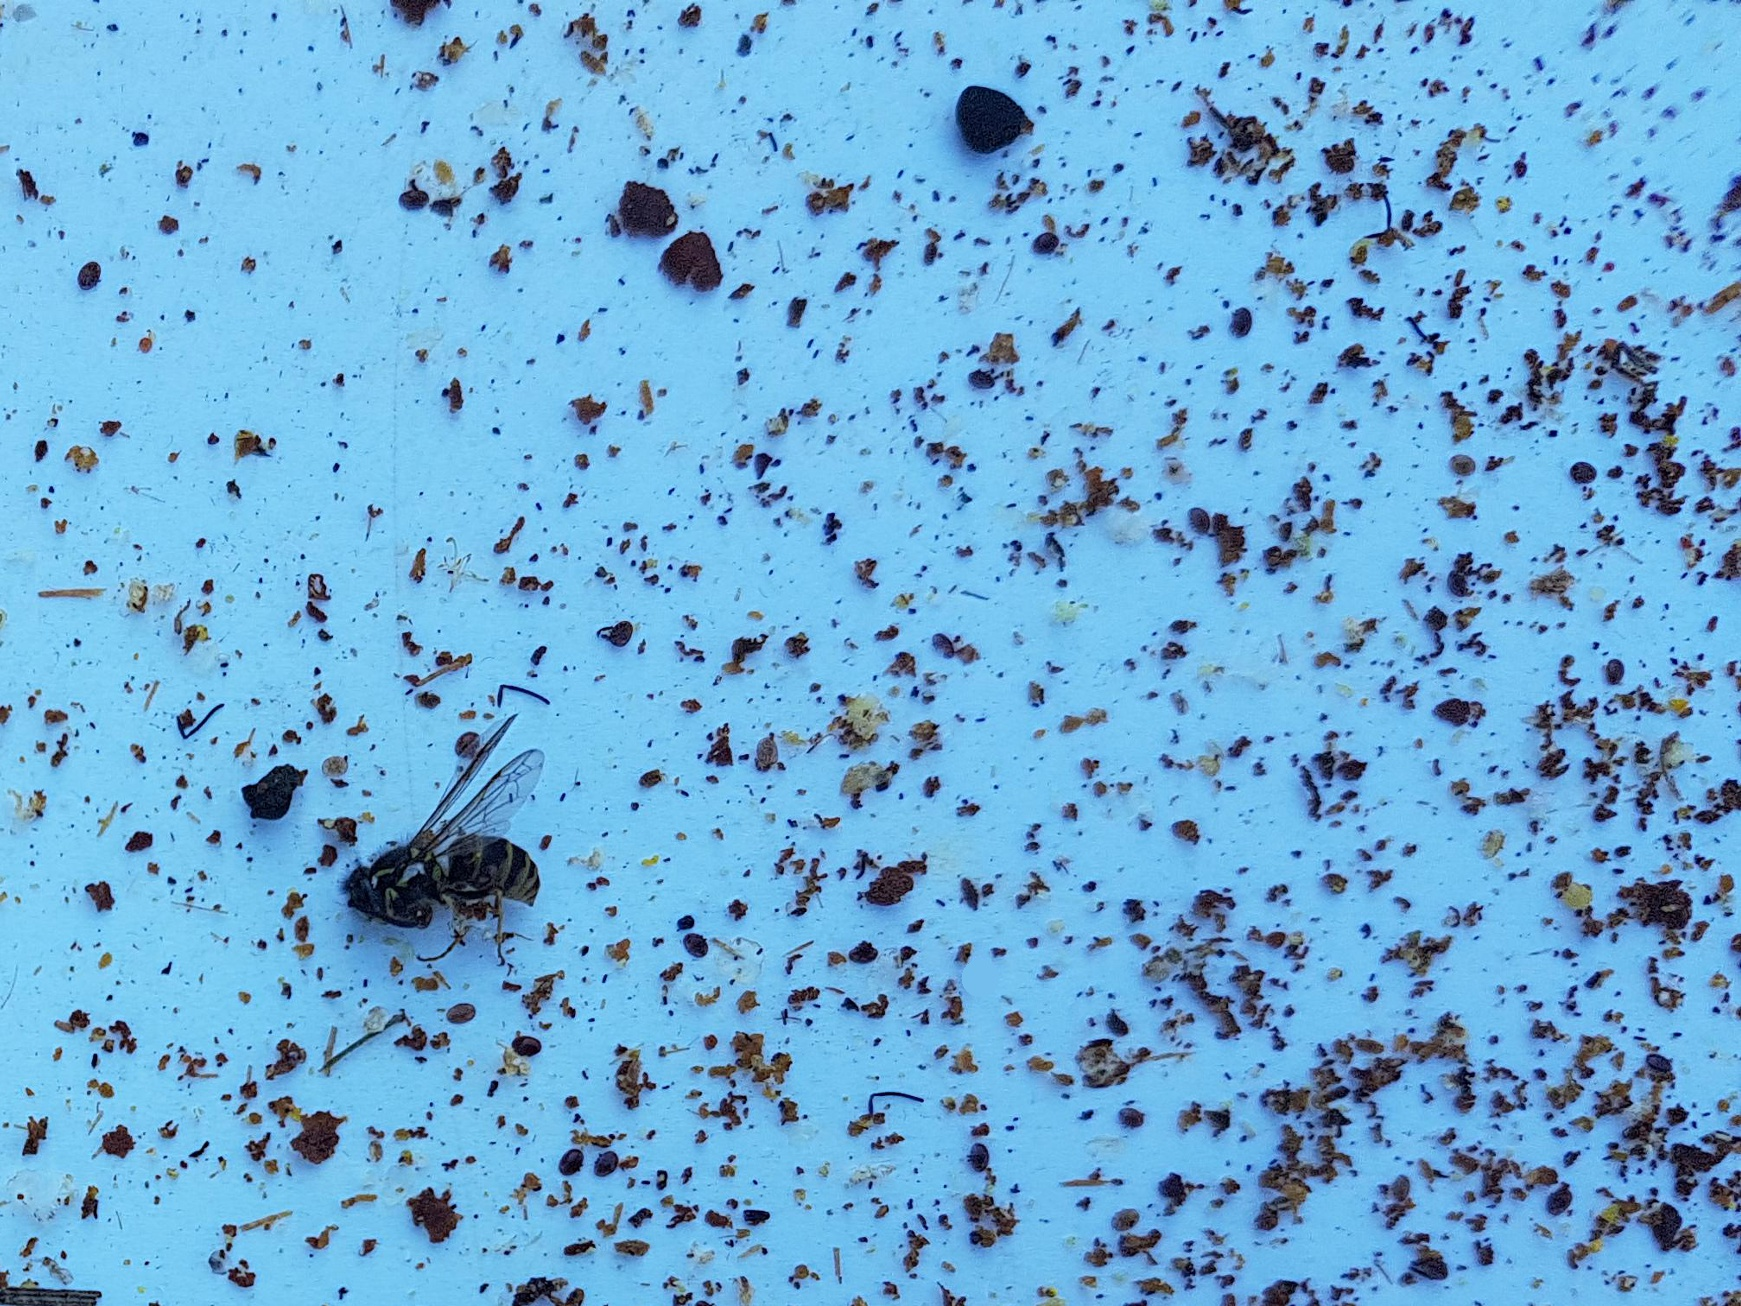Varroa: (1320, 143, 1360, 182), (316, 748, 354, 787), (1111, 1099, 1150, 1139), (1639, 1044, 1679, 1082), (923, 627, 962, 665), (449, 724, 487, 763), (749, 731, 787, 770), (1543, 1185, 1576, 1217), (1386, 1177, 1417, 1209), (447, 997, 477, 1029), (1028, 229, 1056, 262), (1185, 506, 1216, 536), (849, 938, 879, 969), (1113, 1204, 1143, 1235), (1441, 562, 1471, 593), (556, 1147, 584, 1177), (73, 262, 102, 292), (589, 1141, 617, 1172), (969, 366, 997, 395), (1227, 305, 1255, 333), (403, 184, 432, 213), (962, 1141, 991, 1169), (1450, 444, 1478, 473), (605, 621, 632, 648), (685, 931, 712, 958), (516, 1034, 542, 1062), (1598, 658, 1624, 685), (1574, 458, 1598, 484)
